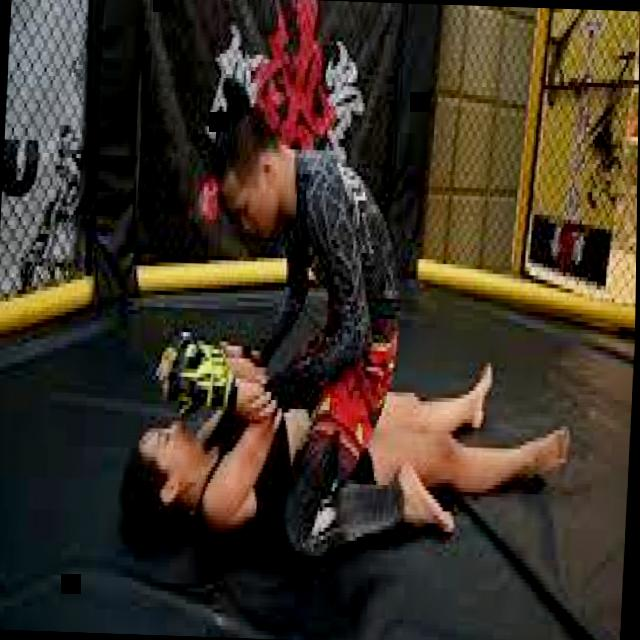Fall-Detected: (93, 328, 595, 548)
